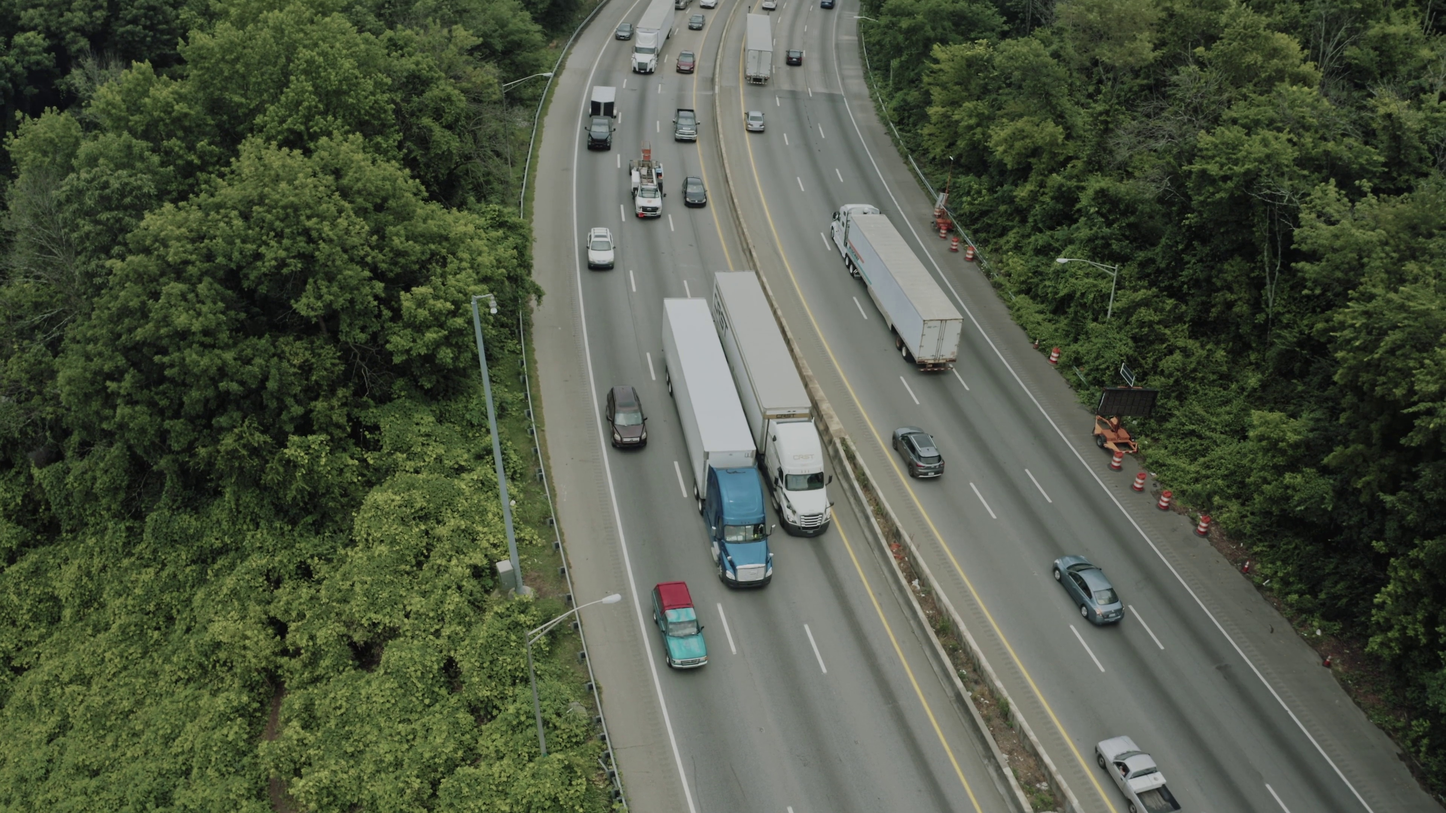Vehicle: (698, 457, 776, 594), (771, 391, 834, 538), (1094, 735, 1183, 813), (650, 584, 715, 673), (1052, 554, 1125, 626), (826, 202, 886, 271), (605, 385, 652, 451), (892, 426, 945, 479), (626, 151, 667, 219), (632, 28, 661, 78), (586, 227, 616, 270), (585, 116, 615, 151), (672, 109, 700, 142), (682, 176, 707, 208), (676, 50, 695, 74), (744, 111, 765, 132), (615, 23, 634, 41), (785, 49, 803, 66), (688, 14, 706, 30), (771, 524, 776, 578), (675, 0, 693, 10), (699, 0, 718, 9), (675, 0, 692, 10), (762, 0, 778, 10), (820, 0, 835, 9)
